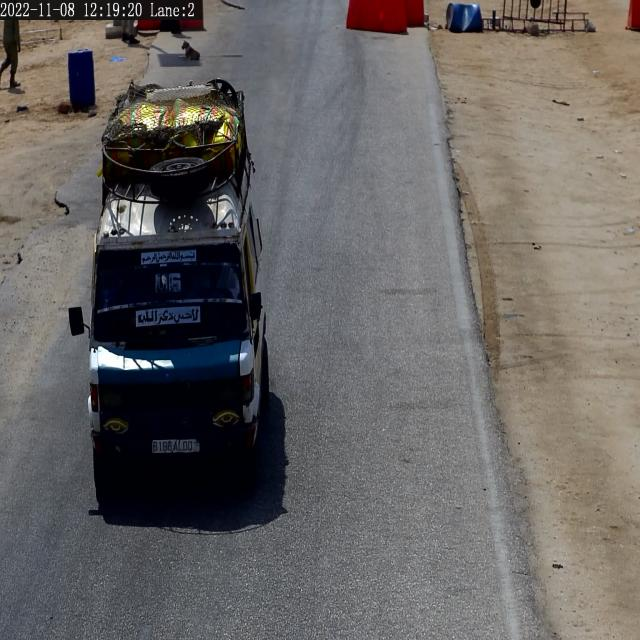BUS: (153, 440, 200, 452)
